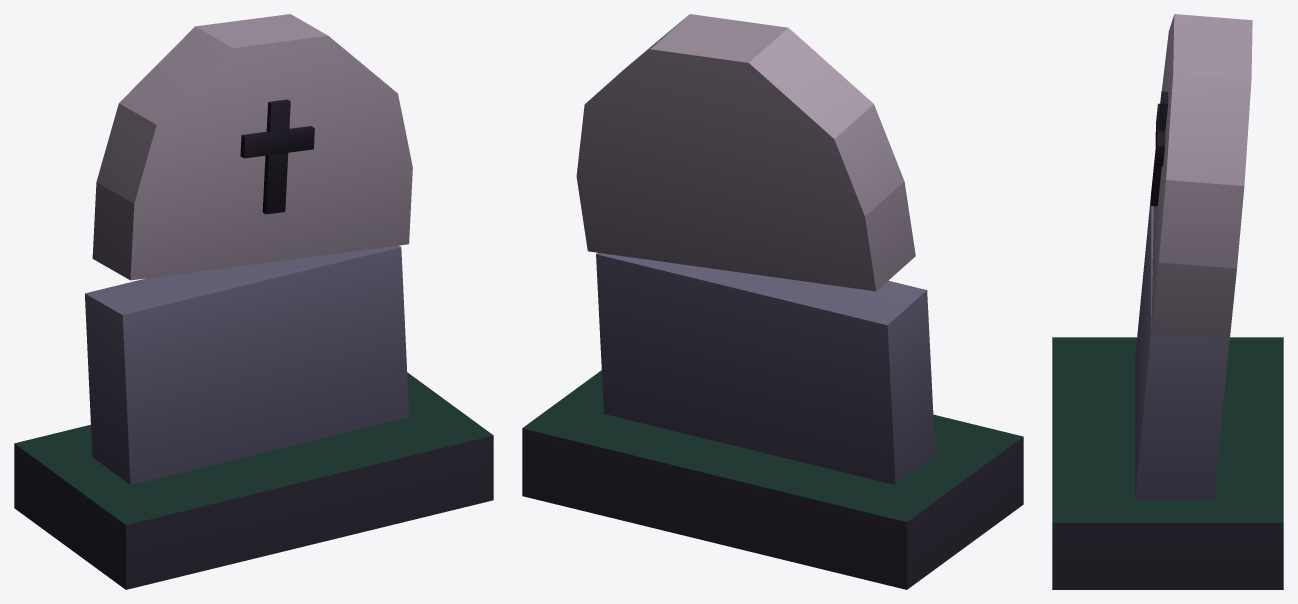
File: PlayGround_Kit_Gravestone.fbx
The picture shows the model from 3 angles, left to right: view 1: azimuth 30°, elevation 25°; view 2: azimuth 150°, elevation 25°; view 3: azimuth 270°, elevation 25°; orthographic projection. The views are drawn at different scales.
Visible parts, largest first — view 1: PlayGround_Kit_Gravestone; view 2: PlayGround_Kit_Gravestone; view 3: PlayGround_Kit_Gravestone.
Part boxes in pixels (box(x1,y1,x2,y2)): PlayGround_Kit_Gravestone: box(14, 14, 493, 589); PlayGround_Kit_Gravestone: box(522, 14, 1023, 589); PlayGround_Kit_Gravestone: box(1052, 14, 1283, 589).
Bounding box in the file's own units: 0.95 × 1.13 × 0.5.
